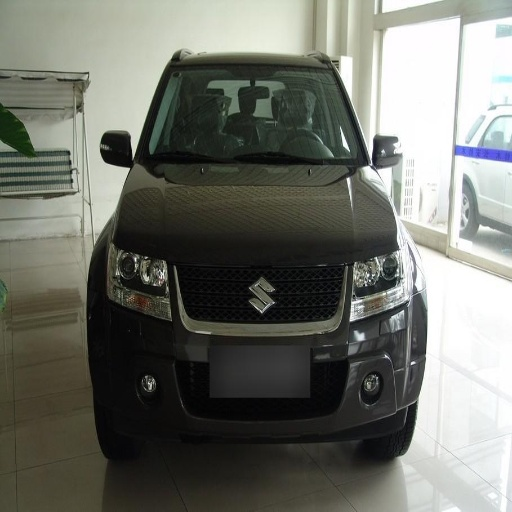front_bumper: (93, 263, 422, 438)
front_right_light: (110, 241, 169, 316)
hood: (117, 165, 399, 267)
